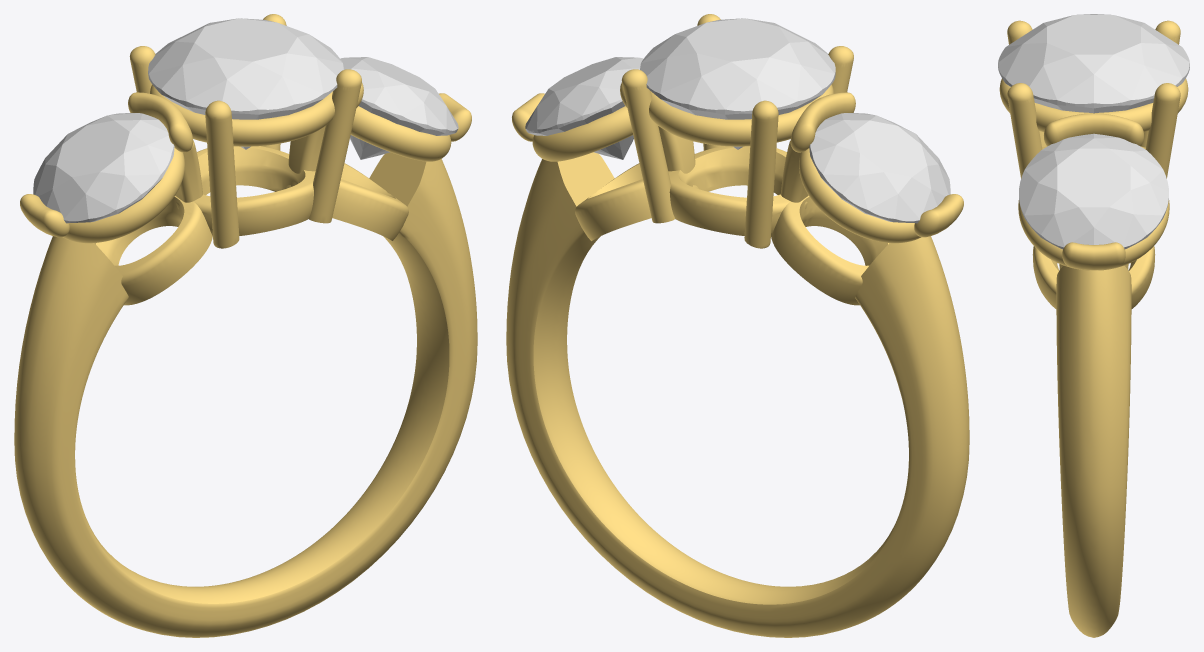
Rendered from PaulaFinalv3_blender.glb.
The picture shows the model from 3 angles, left to right: view 1: azimuth 30°, elevation 25°; view 2: azimuth 150°, elevation 25°; view 3: azimuth 270°, elevation 25°; orthographic projection. The views are drawn at different scales.
Parts seen in each view (by area): view 1: V3 Paula YG for 3d model, V3 Paula dia for 3d model.002, V3 Paula dia for 3d model.001, V3 Paula dia for 3d model; view 2: V3 Paula YG for 3d model, V3 Paula dia for 3d model.002, V3 Paula dia for 3d model.001, V3 Paula dia for 3d model; view 3: V3 Paula YG for 3d model, V3 Paula dia for 3d model.002, V3 Paula dia for 3d model.
Boxes of the visible parts, <box> form: V3 Paula YG for 3d model: <box>14,14,477,637</box>; V3 Paula dia for 3d model.002: <box>148,18,343,149</box>; V3 Paula dia for 3d model.001: <box>33,113,174,223</box>; V3 Paula dia for 3d model: <box>340,57,458,159</box>; V3 Paula YG for 3d model: <box>506,14,969,637</box>; V3 Paula dia for 3d model.002: <box>640,18,835,149</box>; V3 Paula dia for 3d model.001: <box>809,113,950,223</box>; V3 Paula dia for 3d model: <box>525,57,643,159</box>; V3 Paula YG for 3d model: <box>999,20,1188,637</box>; V3 Paula dia for 3d model.002: <box>998,14,1189,113</box>; V3 Paula dia for 3d model: <box>1019,133,1168,249</box>.
Size of the model in its own units: 19.9 by 24.64 by 7.4.
